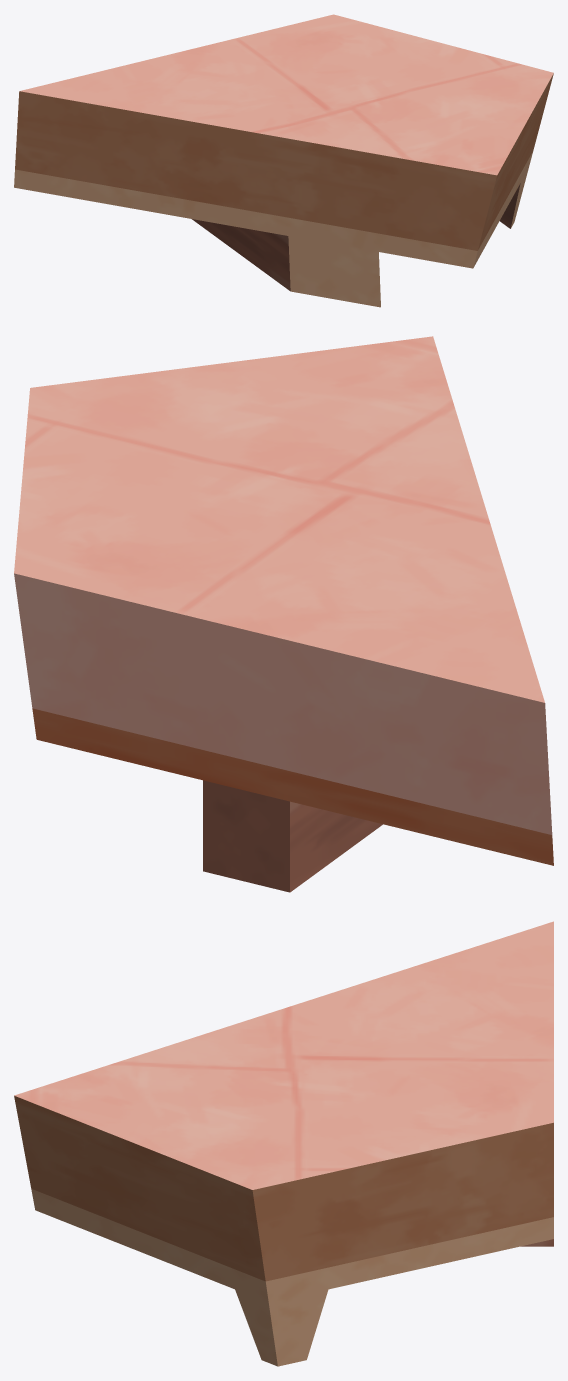
File: floor_s02.fbx
3 views of the same model, one above another, from view 1: azimuth 30°, elevation 25°; view 2: azimuth 150°, elevation 25°; view 3: azimuth 270°, elevation 25° (orthographic). The views are drawn at different scales.
Visible parts, largest first — view 1: floor_s02; view 2: floor_s02; view 3: floor_s02.
Part boxes in pixels (x1=…): floor_s02: x1=14, y1=14, x2=553, y2=307; floor_s02: x1=14, y1=336, x2=553, y2=892; floor_s02: x1=14, y1=921, x2=553, y2=1366.
Size of the model in its own units: 4.95 by 1.66 by 4.15.
